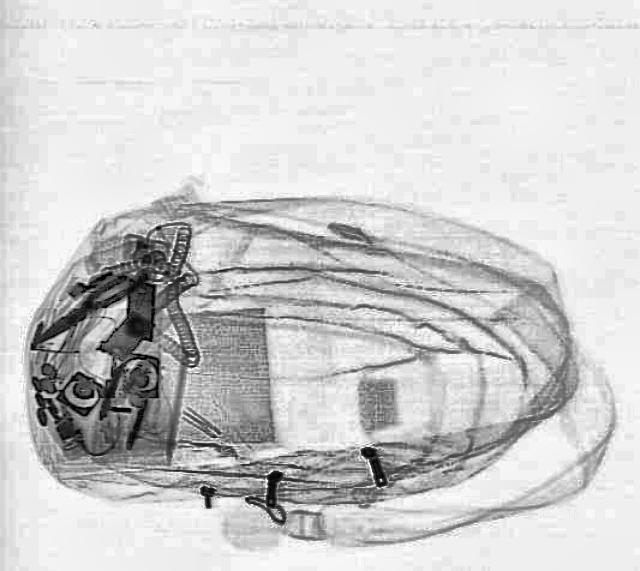Pliers: (24, 268, 138, 352)
